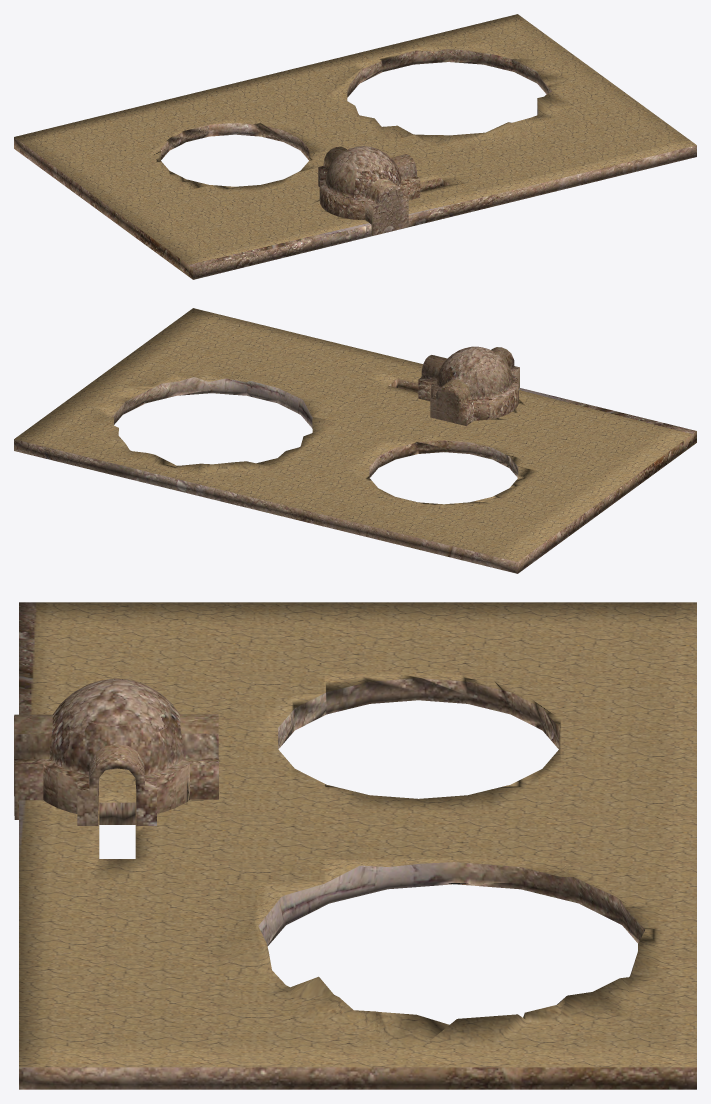
File: main_top.obj
3 renders of one model, top to bottom at view 1: azimuth 30°, elevation 25°; view 2: azimuth 150°, elevation 25°; view 3: azimuth 270°, elevation 25°, orthographic. The views are drawn at different scales.
Parts seen in each view (by area): view 1: top; view 2: top; view 3: top.
Part boxes in pixels (left/top/right/bottom): top: left=14, top=14, right=696, bottom=279; top: left=14, top=308, right=696, bottom=573; top: left=14, top=602, right=696, bottom=1089.
Bounding box in the file's own units: 49.31 × 6.02 × 30.6.
